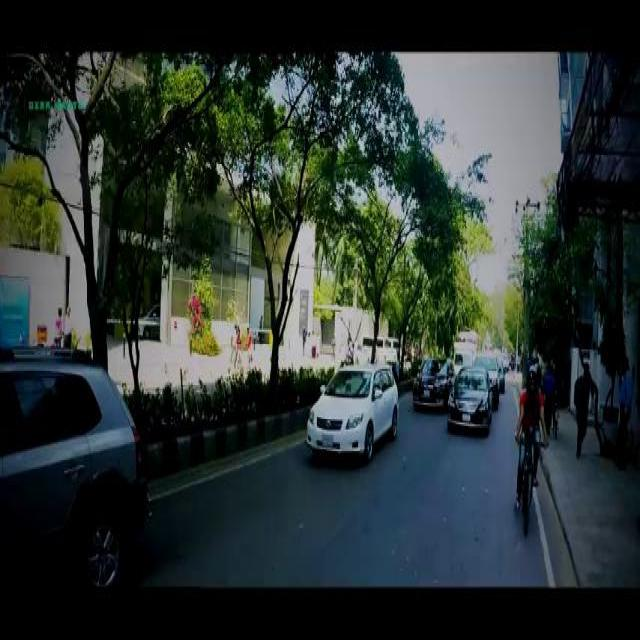bicycle: (514, 426, 546, 535), (551, 391, 559, 438)
car: (0, 343, 145, 593), (306, 362, 398, 456), (446, 365, 490, 428), (411, 356, 453, 406), (339, 341, 368, 364)
pickup: (452, 340, 474, 368)
van: (362, 334, 391, 356)
